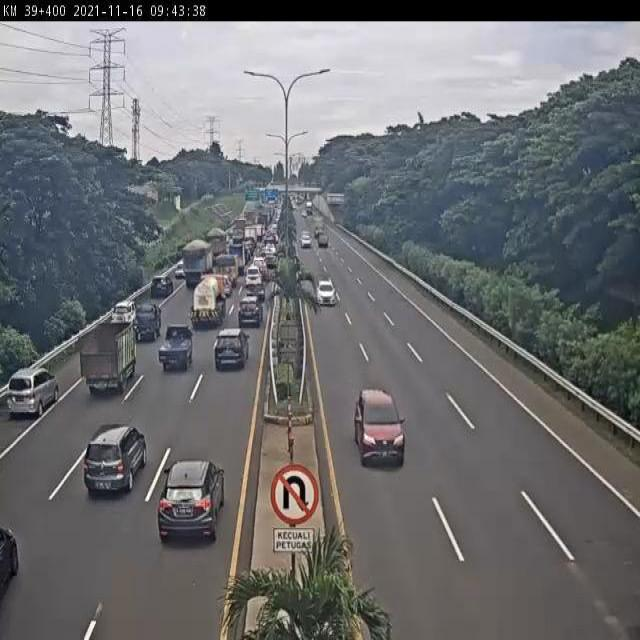car: (153, 456, 226, 547), (80, 418, 149, 498), (351, 384, 406, 467), (4, 363, 63, 425), (156, 319, 199, 373), (209, 326, 252, 378), (131, 301, 165, 348), (235, 296, 264, 333), (141, 278, 170, 306), (111, 302, 139, 330), (244, 279, 267, 305), (316, 280, 337, 308), (244, 264, 262, 291), (213, 274, 233, 298), (172, 261, 190, 284), (252, 252, 270, 273), (263, 251, 279, 268), (319, 232, 329, 247), (300, 233, 310, 247)
small truck: (77, 315, 142, 401), (214, 252, 237, 284), (226, 244, 246, 276)
truck-m-: (191, 271, 228, 333), (181, 239, 218, 289), (203, 227, 229, 261)
